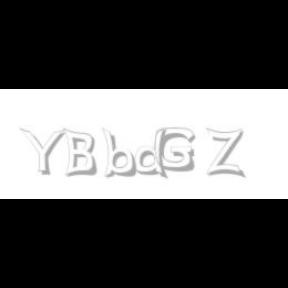B: (63, 128, 97, 178)
G: (155, 128, 195, 172)
Y: (19, 128, 65, 176)
Z: (206, 128, 244, 178)
b: (102, 128, 140, 178)
d: (134, 128, 172, 180)
